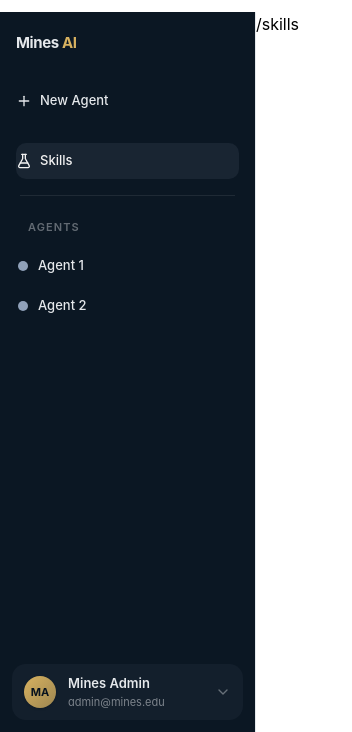
Test: AppSidebar › clicking an agent navigates to its page
Expected: the text with test id "location" reads "/skills", [256,14,299,34]
Click the button "Agent 1".
click(128, 266)  # box [16,248,239,284]
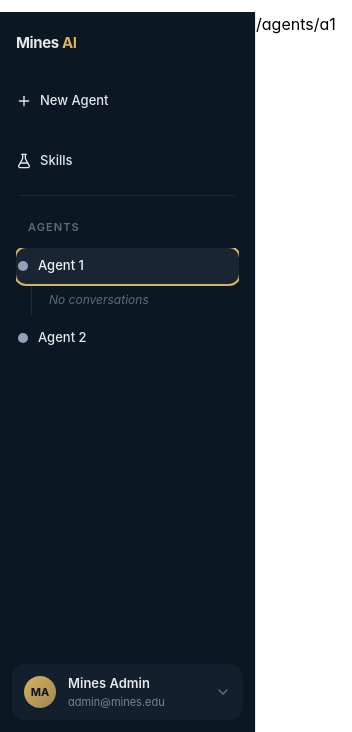
Expected: the text with test id "location" reads "/agents/a1", [256,14,336,34]
